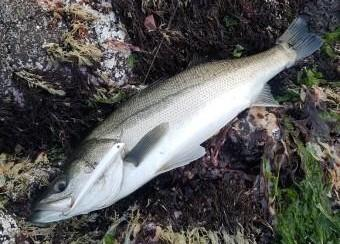fish: (33, 17, 321, 222)
